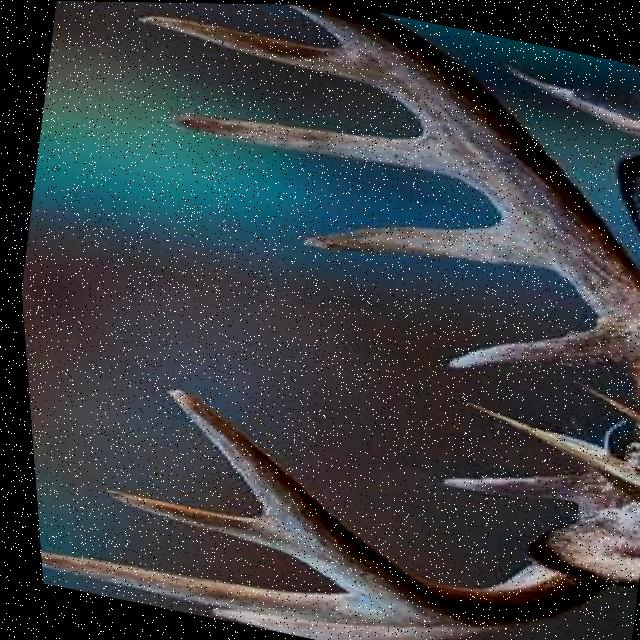L-G1: (431, 469, 580, 502)
L-G3: (32, 548, 398, 626)
L-G4: (90, 482, 281, 554)
R-F: (282, 3, 640, 390)
R-G1: (437, 317, 629, 370)
R-G2: (296, 217, 554, 271)
R-G3: (165, 110, 468, 184)
R-G4: (130, 11, 383, 89)
